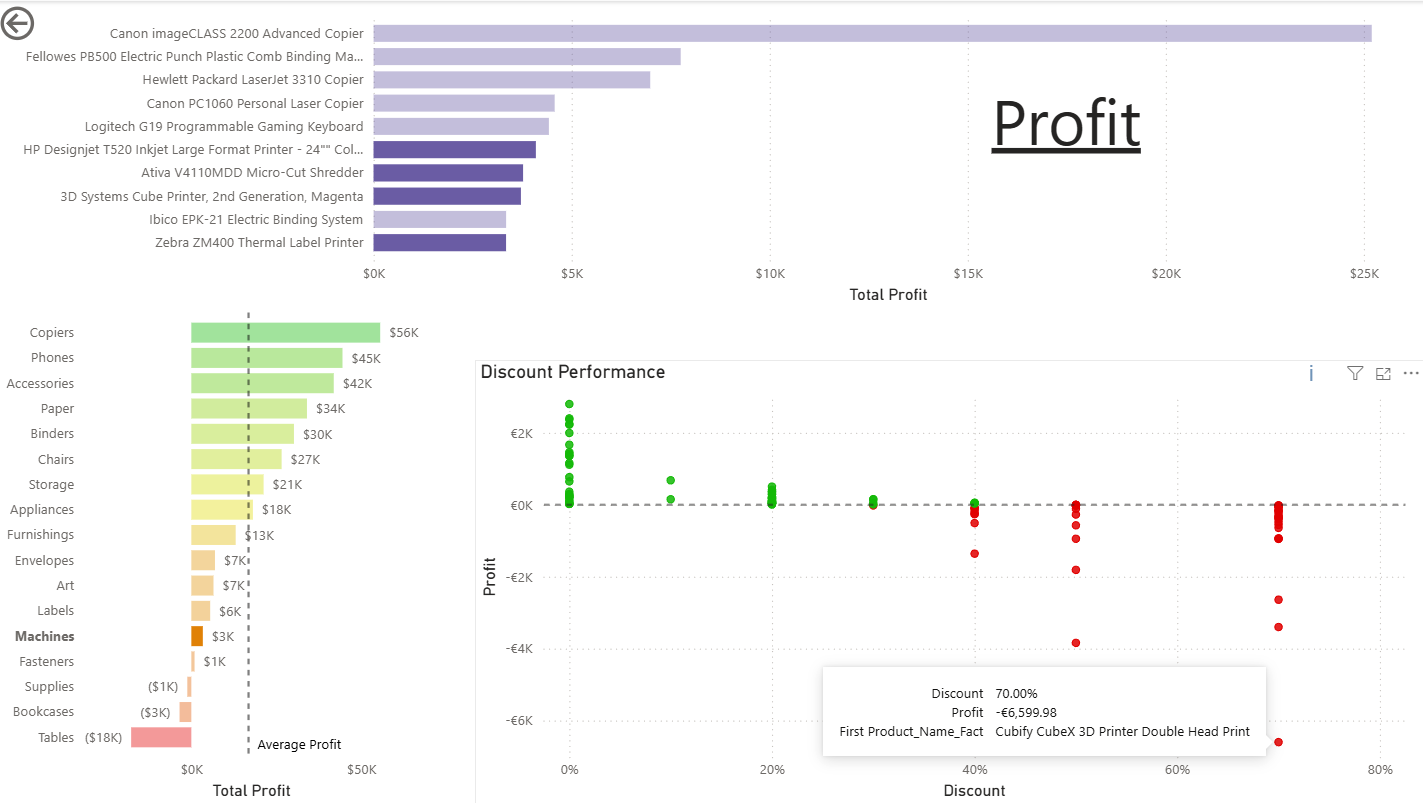

This screenshot's page, from the dashboard's own definition file:
{"tool":"powerbi","page":{"name":"Profit","canvas":[1280,720],"ordinal":1},"visuals":[{"type":"clusteredBarChart","fields":{"Y":["_Measures.Total Profit"],"Category":["dProduct.Product_Name"]},"box":[7.8,0,1272.2,275.6],"z":2500},{"type":"scatterChart","title":"Discount Performance","fields":{"Y":["fOrders.Profit"],"X":["fOrders.Discount"]},"box":[430,321.1,850,398.9],"z":3000},{"type":"clusteredBarChart","title":"Total Profit","fields":{"Category":["dProduct.Sub_Category"],"Y":["_Measures.Total Profit"]},"box":[0,265.6,398.9,454.4],"z":3125},{"type":"actionButton","box":[0,0,100,40],"z":3375},{"type":"textbox","box":[877.8,63.3,163.3,104.4],"z":3875}]}

Visuals, with their boxes in screenshot pixels (x1, y1, x2, y2), scaled from the page's 1280x720 canvas onto the 1423x803 screenshot:
clusteredBarChart - _Measures.Total Profit x dProduct.Product_Name: x1=9, y1=0, x2=1422, y2=307
"Discount Performance" scatterChart: x1=478, y1=358, x2=1422, y2=802
"Total Profit" clusteredBarChart: x1=0, y1=296, x2=443, y2=802
actionButton: x1=0, y1=0, x2=111, y2=45
textbox: x1=976, y1=71, x2=1157, y2=187
